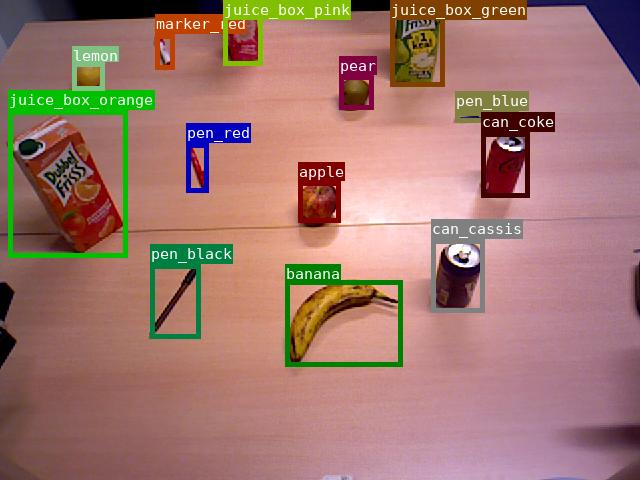apple: (298, 181, 340, 222)
banana: (285, 280, 402, 366)
can_cassis: (431, 239, 484, 312)
can_coke: (481, 132, 529, 197)
juice_box_green: (390, 0, 444, 86)
juice_box_orange: (8, 110, 127, 257)
juice_box_pink: (223, 0, 262, 65)
lemon: (72, 62, 104, 90)
marker_red: (155, 34, 174, 69)
pear: (339, 75, 373, 109)
pen_black: (150, 264, 200, 338)
pen_blue: (455, 111, 518, 122)
pen_red: (186, 143, 208, 192)
